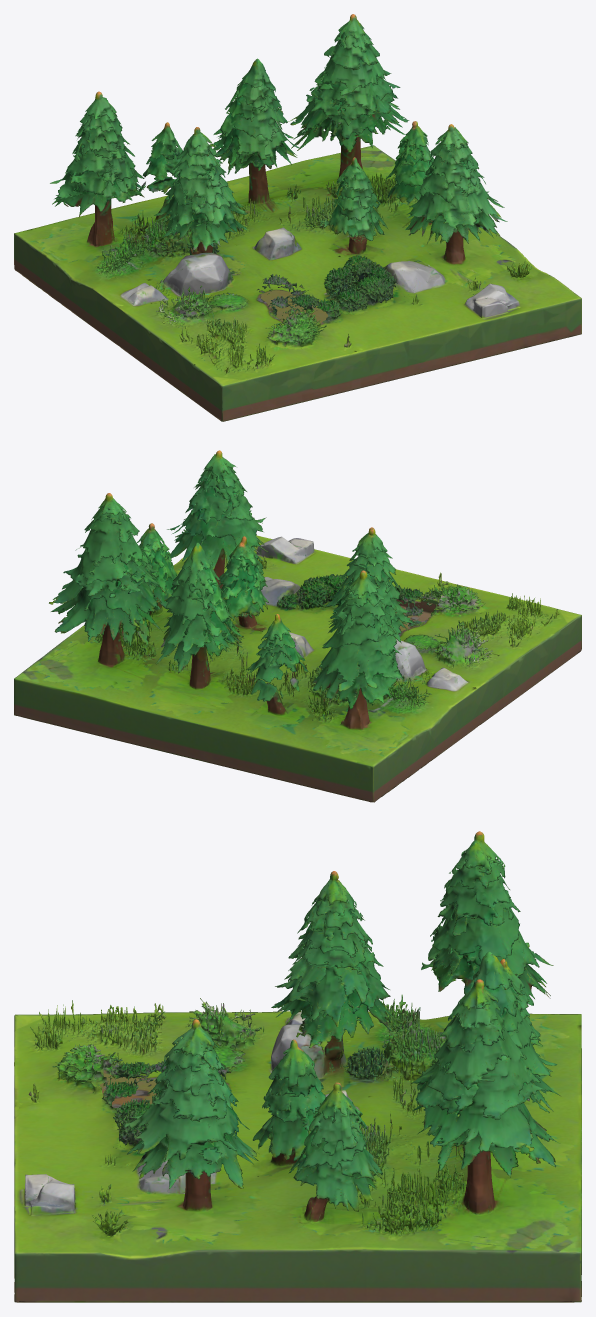
File: Meshy_AI_A_stylized_low_polygon_3D_model_of_a_20250626_texture.glb
3 views of the same model, one above another, from view 1: azimuth 30°, elevation 25°; view 2: azimuth 150°, elevation 25°; view 3: azimuth 270°, elevation 25° (orthographic). The views are drawn at different scales.
Bounding box in the file's own units: 2 × 1.11 × 2.
Materials: 1 (1 with a texture image).
